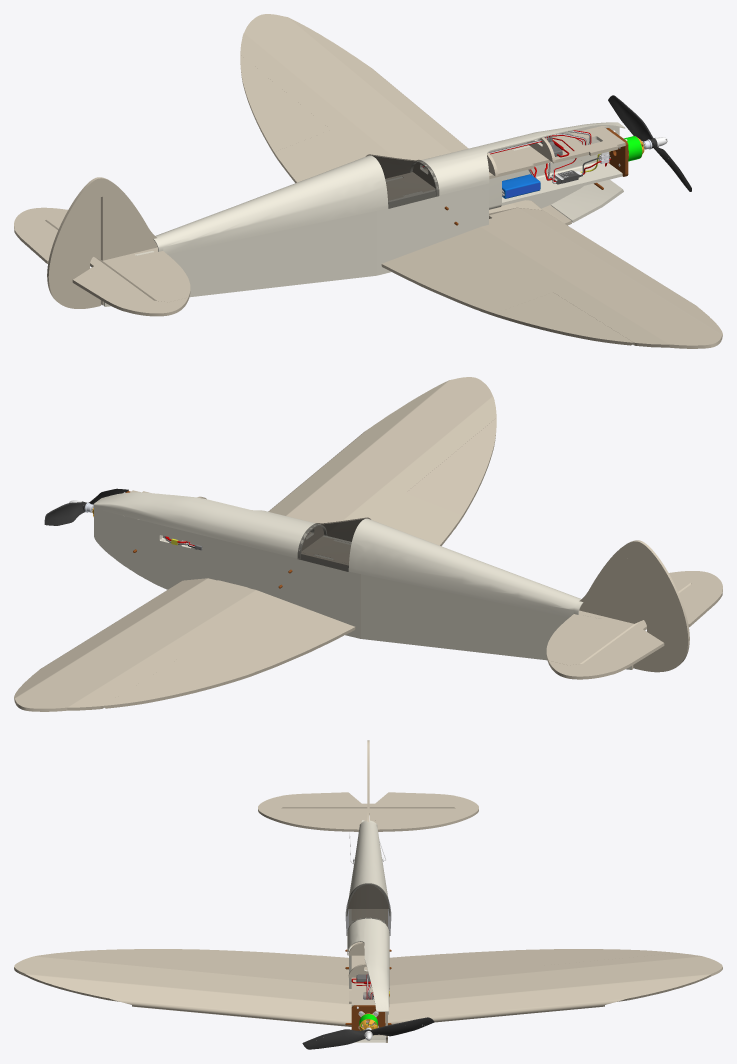
3 renders of one model, top to bottom at view 1: azimuth 30°, elevation 25°; view 2: azimuth 150°, elevation 25°; view 3: azimuth 270°, elevation 25°, orthographic. The views are drawn at different scales.
Visible parts, largest first — view 1: Object_534, Object_8, Object_58, Object_122, Object_14, Object_11, Object_82, Object_126, Object_537, Object_45, Object_33, Object_18 (+3 smaller); view 2: Object_49, Object_8, Object_534, Object_122, Object_126, Object_14, Object_11, Object_537, Object_82, Object_33, Object_36, Object_179 (+1 smaller); view 3: Object_534, Object_8, Object_33, Object_11, Object_126, Object_122, Object_179, Object_82, Object_537, Object_45, Object_24.
Part boxes in pixels (<box>): Object_534: <box>381,208,722,348</box>; Object_8: <box>240,14,542,215</box>; Object_58: <box>103,183,488,306</box>; Object_122: <box>153,155,388,254</box>; Object_14: <box>47,177,122,308</box>; Object_11: <box>14,207,188,316</box>; Object_82: <box>240,55,330,154</box>; Object_126: <box>410,122,625,195</box>; Object_537: <box>494,292,634,345</box>; Object_45: <box>386,127,625,200</box>; Object_33: <box>46,210,190,302</box>; Object_18: <box>385,139,622,209</box>; Object_49: <box>94,508,631,669</box>; Object_8: <box>14,578,355,711</box>; Object_534: <box>268,377,496,546</box>; Object_122: <box>348,518,583,617</box>; Object_126: <box>93,492,327,558</box>; Object_14: <box>614,540,689,672</box>; Object_11: <box>548,571,722,679</box>; Object_537: <box>406,418,496,517</box>; Object_82: <box>102,655,242,708</box>; Object_33: <box>546,573,690,665</box>; Object_36: <box>579,555,634,623</box>; Object_179: <box>297,517,370,571</box>; Object_534: <box>14,949,351,1026</box>; Object_8: <box>385,949,722,1025</box>; Object_33: <box>274,808,462,831</box>; Object_11: <box>258,792,478,820</box>; Object_126: <box>347,917,389,1014</box>; Object_122: <box>346,820,390,915</box>; Object_179: <box>345,883,391,935</box>; Object_82: <box>542,949,676,965</box>; Object_537: <box>60,949,194,965</box>; Object_45: <box>349,909,385,1006</box>; Object_24: <box>348,884,388,908</box>.
Size of the model in its own units: 128 by 30.25 by 161.
